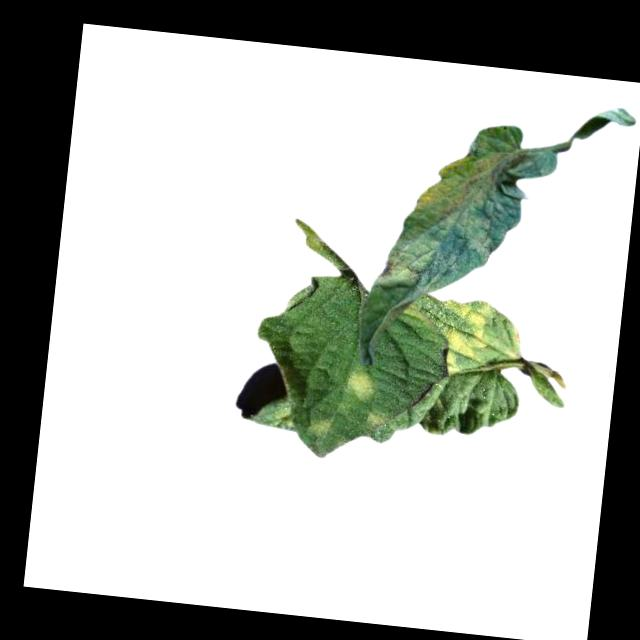Leaf_Mold: (412, 145, 505, 225), (435, 298, 495, 378), (372, 240, 442, 294), (345, 365, 380, 405), (365, 408, 391, 434), (307, 416, 333, 441)
